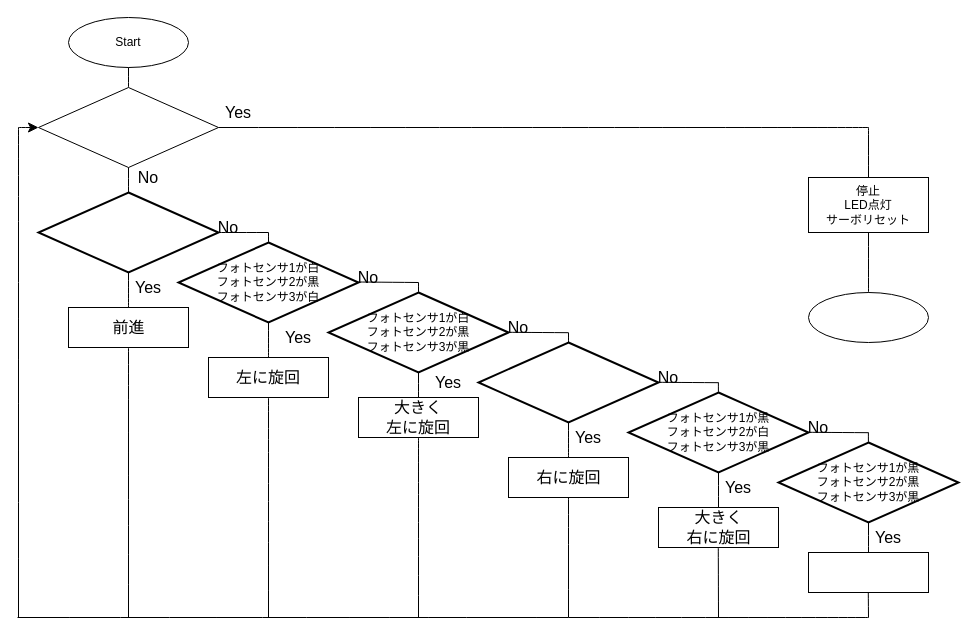
The diagram is 977 pixels wide and 636 high, and some of its shapes have lost their labels. The centre of each missing label's shape, as x and y in pixels:
"Finish" goes at pixel 868 317.
"フォトセンサ1が白 フォト センサ2が白 フォト センサ3が白" goes at pixel 128 232.
"フォトセンサ1が黒 フォト センサ2が白 フォト センサ3が白" goes at pixel 568 382.
"後退" goes at pixel 868 572.
"測距センサが反応" goes at pixel 128 127.
